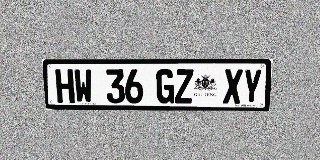3: (106, 69, 125, 103)
6: (125, 69, 143, 103)
G: (156, 69, 174, 103)
H: (55, 69, 75, 103)
W: (74, 69, 93, 103)
X: (223, 69, 243, 104)
Y: (242, 69, 262, 104)
Z: (175, 69, 194, 103)
